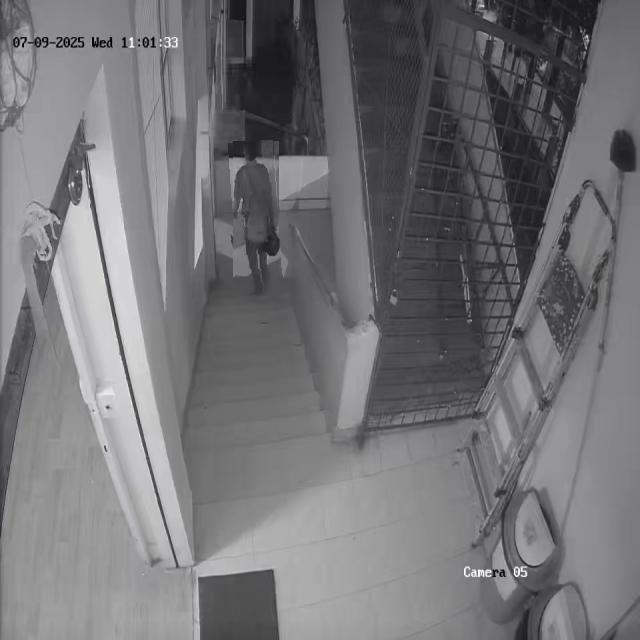person: (231, 140, 282, 296)
